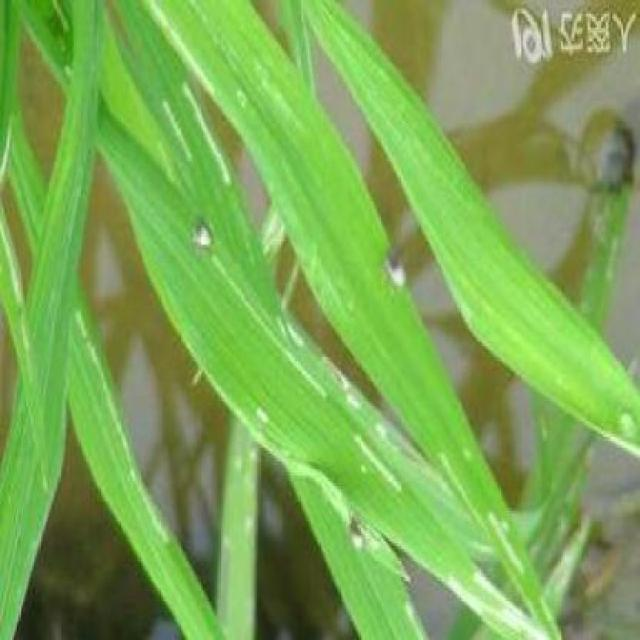rice-bug: (383, 248, 406, 290), (194, 218, 212, 256), (348, 516, 364, 552)
